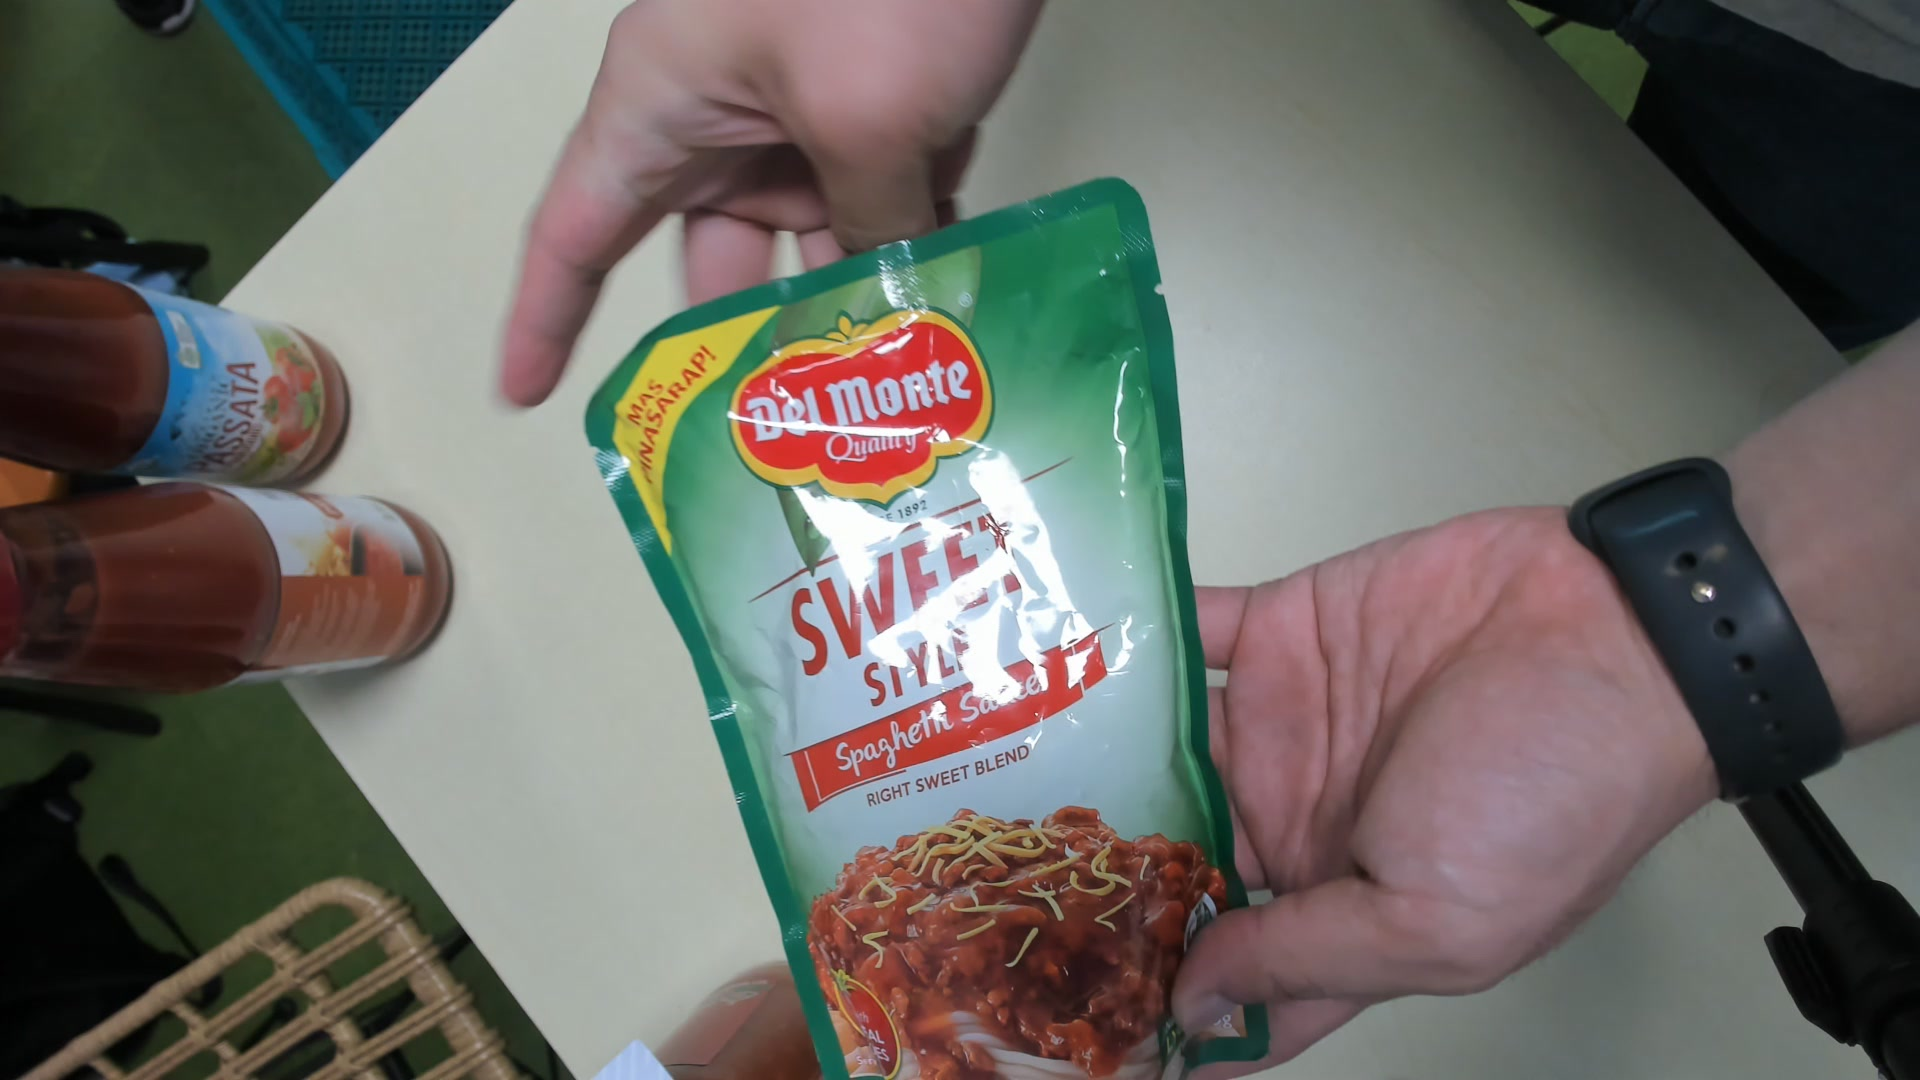PastaSauce_500-599g_Halal_NonHealthy: (621, 214, 1286, 1080)
